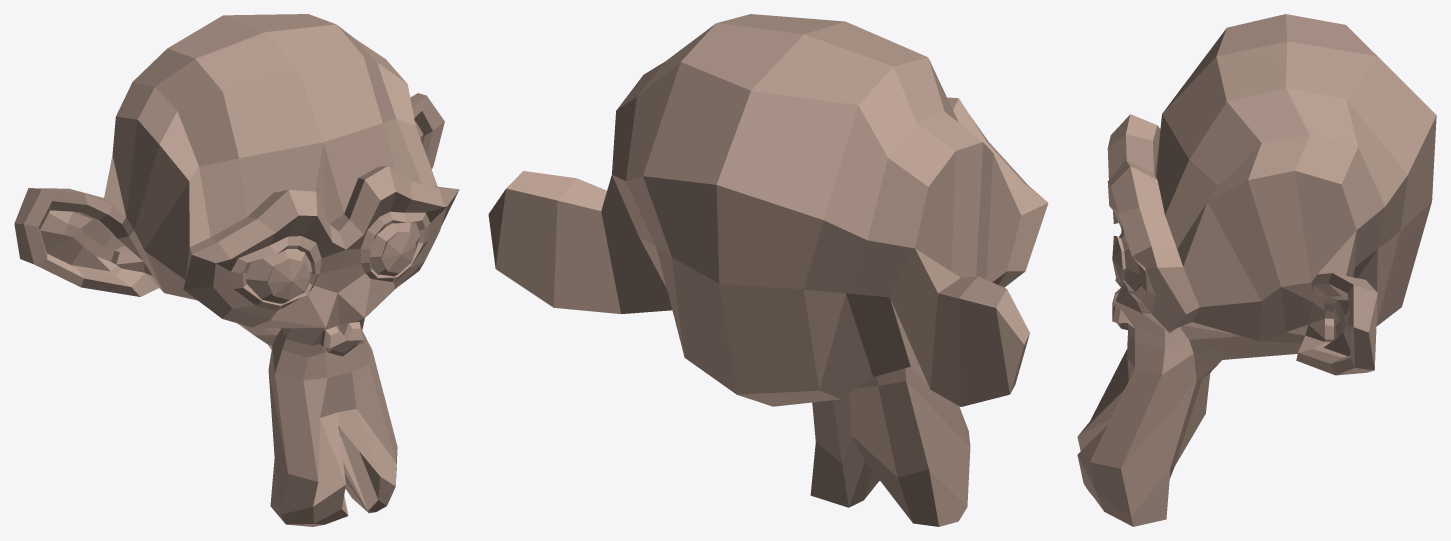
The picture shows the model from 3 angles, left to right: view 1: azimuth 30°, elevation 25°; view 2: azimuth 150°, elevation 25°; view 3: azimuth 270°, elevation 25°; orthographic projection. The views are drawn at different scales.
Visible parts, largest first — view 1: t51; view 2: t51; view 3: t51.
Part boxes in pixels (x1,y1,x2,y2): t51: (14, 14, 459, 526); t51: (488, 14, 1048, 526); t51: (1077, 14, 1436, 526).
Size of the model in its own units: 579 by 562 by 394.
